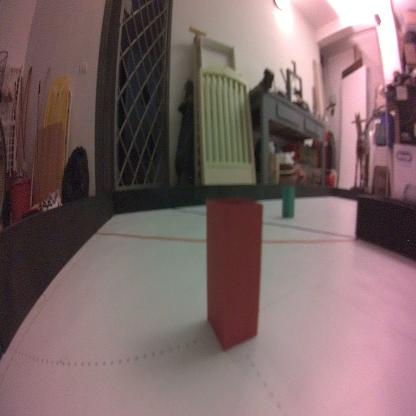green: (280, 182, 295, 221)
red: (204, 190, 264, 358)
